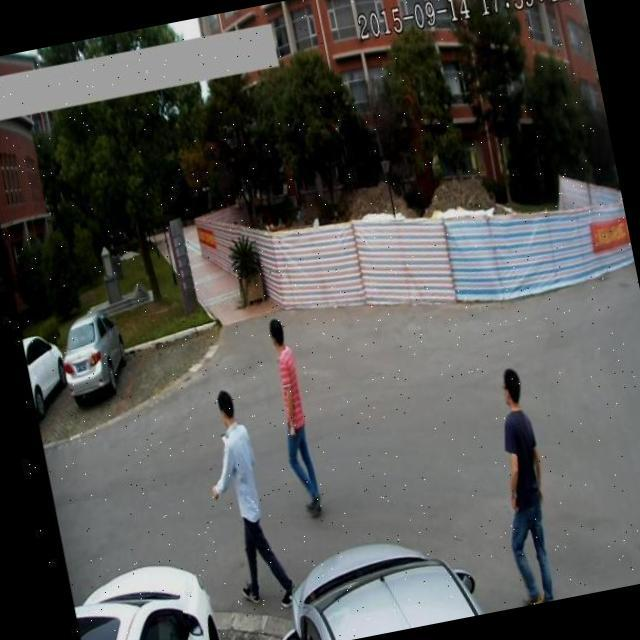person: (192, 378, 300, 624), (472, 358, 572, 608), (259, 308, 335, 526)
